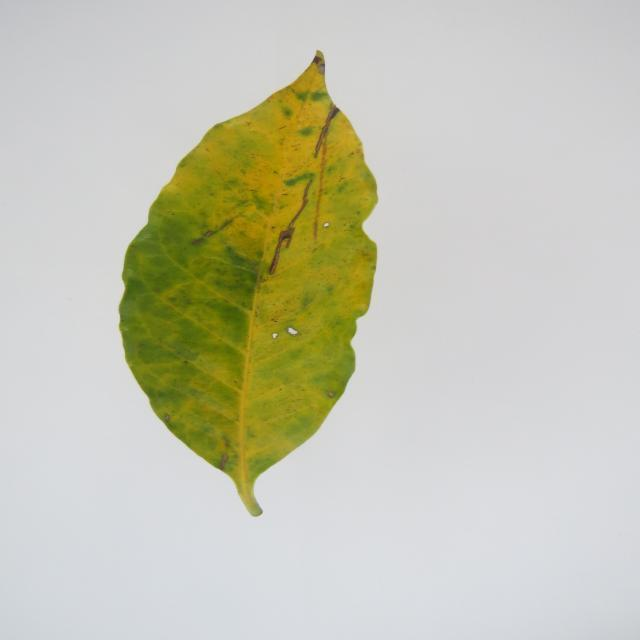DeficienciaNutricional-Nitrogeno: (120, 51, 377, 516)
